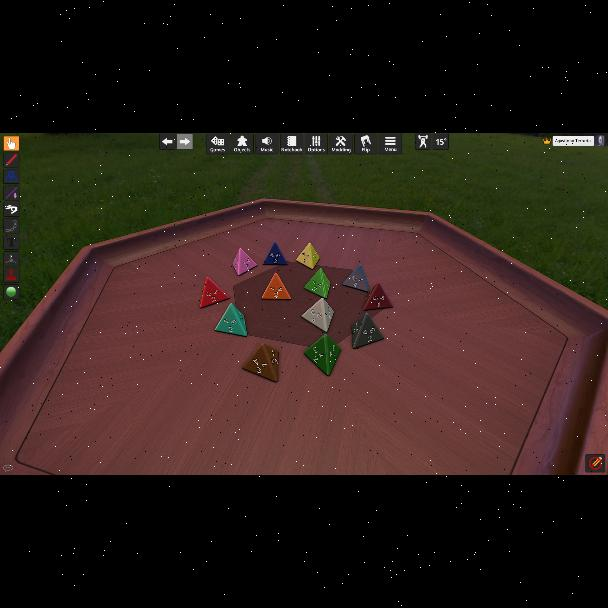d4: (243, 342, 281, 382), (304, 335, 340, 376), (351, 313, 383, 350), (300, 298, 332, 332), (214, 304, 246, 336), (261, 273, 291, 301), (200, 278, 228, 308), (303, 268, 329, 300), (364, 283, 392, 311), (232, 247, 258, 276), (342, 264, 368, 292), (262, 242, 288, 268), (296, 243, 318, 269)
